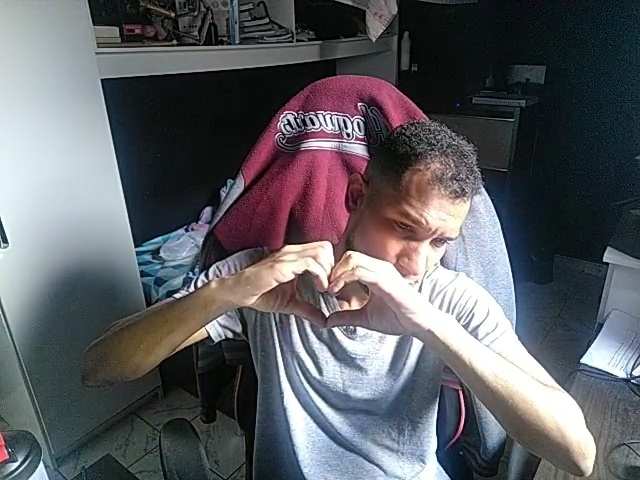eu_te_amo: (228, 234, 412, 345)
